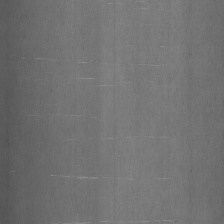waist_folding: (33, 19, 189, 201)
